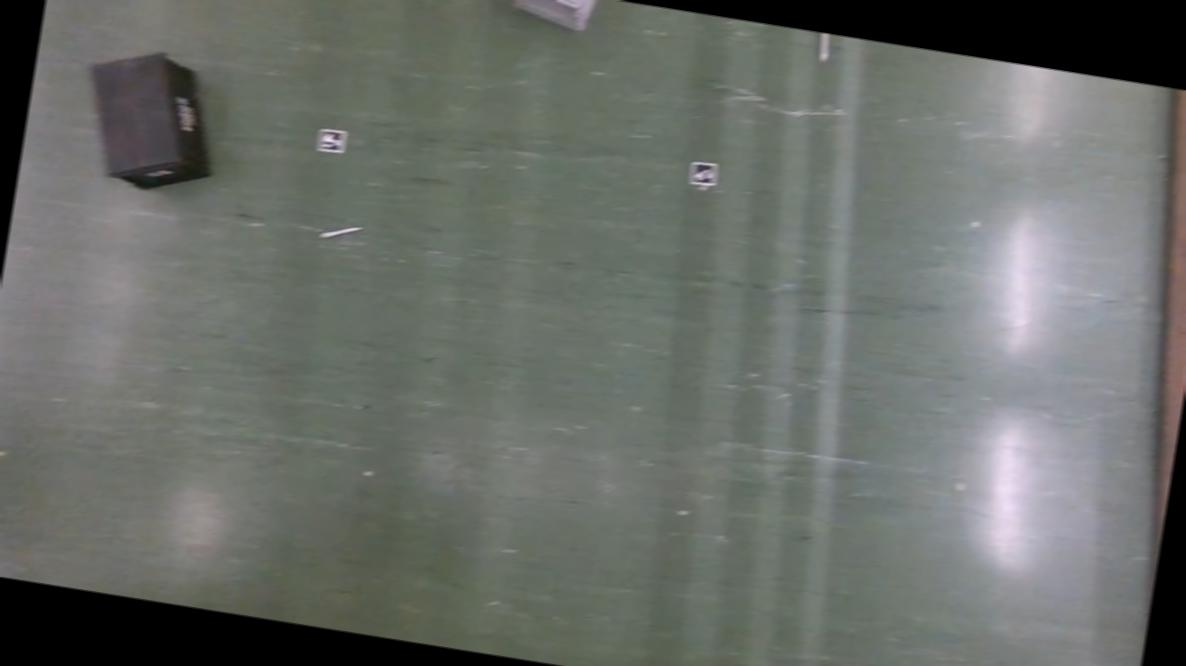probes: (322, 222, 359, 243), (816, 32, 832, 62)
rako: (73, 44, 227, 200), (497, 0, 606, 35)
